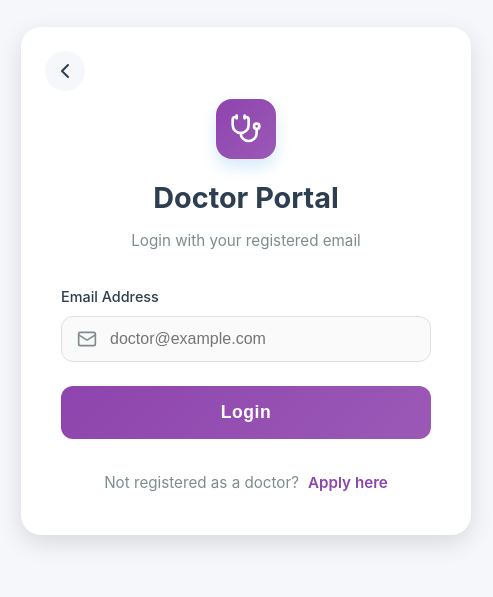
DoctorLogin Unit Tests › displays error message on failed login
This screenshot has width=493, height=597.
Type "doctor@invalid.com" into the field labelled "Email Address" at coordinates (246, 339), box top-left (61, 316), bottom-right (431, 362)
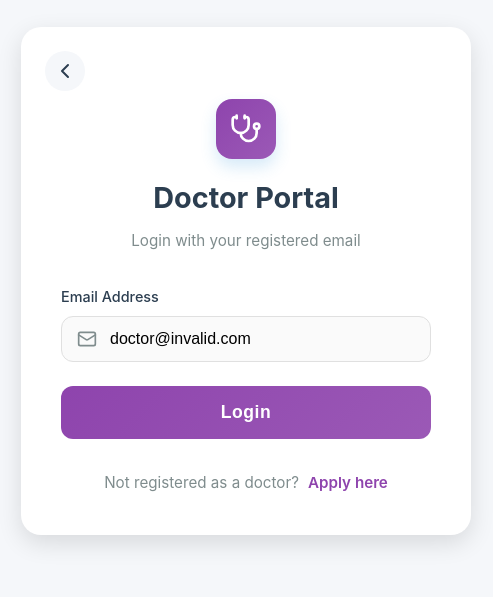
Click the button "Login" at coordinates (246, 412), box top-left (61, 386), bottom-right (431, 439)
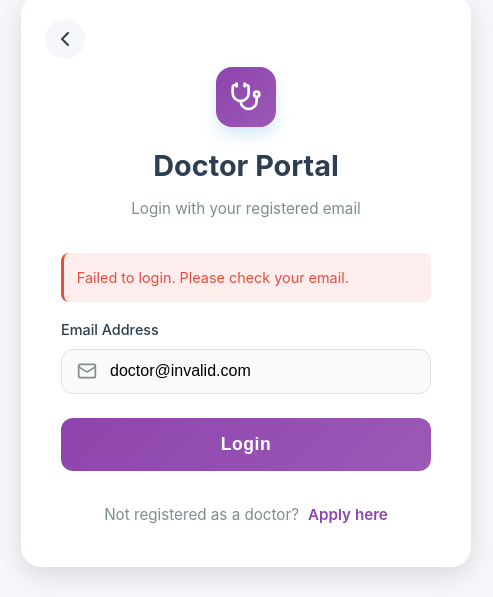
Expected: the text "Failed to login. Please check your email." is shown, top-left (61, 253), bottom-right (431, 302)
